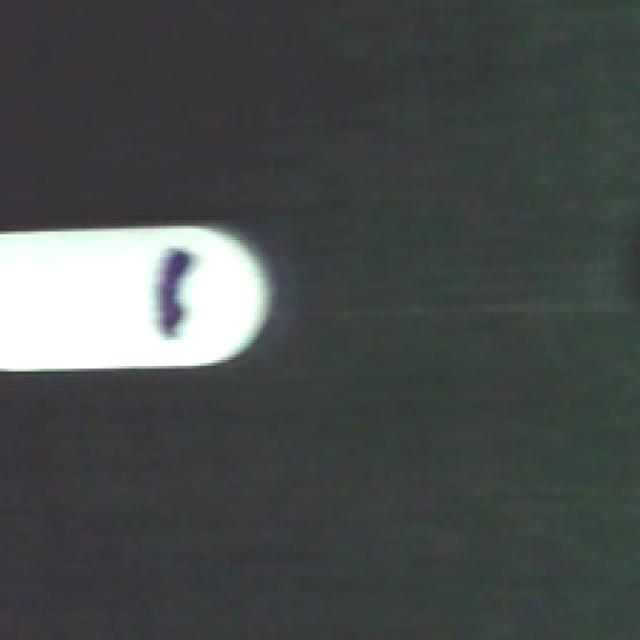defected: (0, 220, 289, 380)
